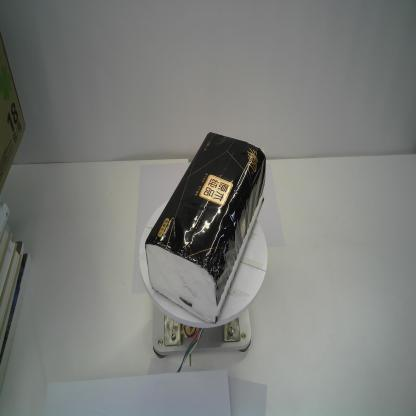Tissue: (143, 131, 267, 326)
